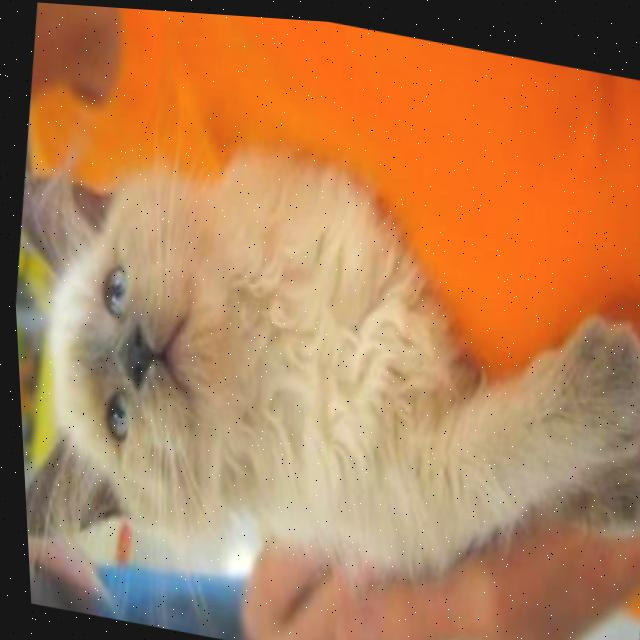Ragdoll: (4, 87, 640, 640)
